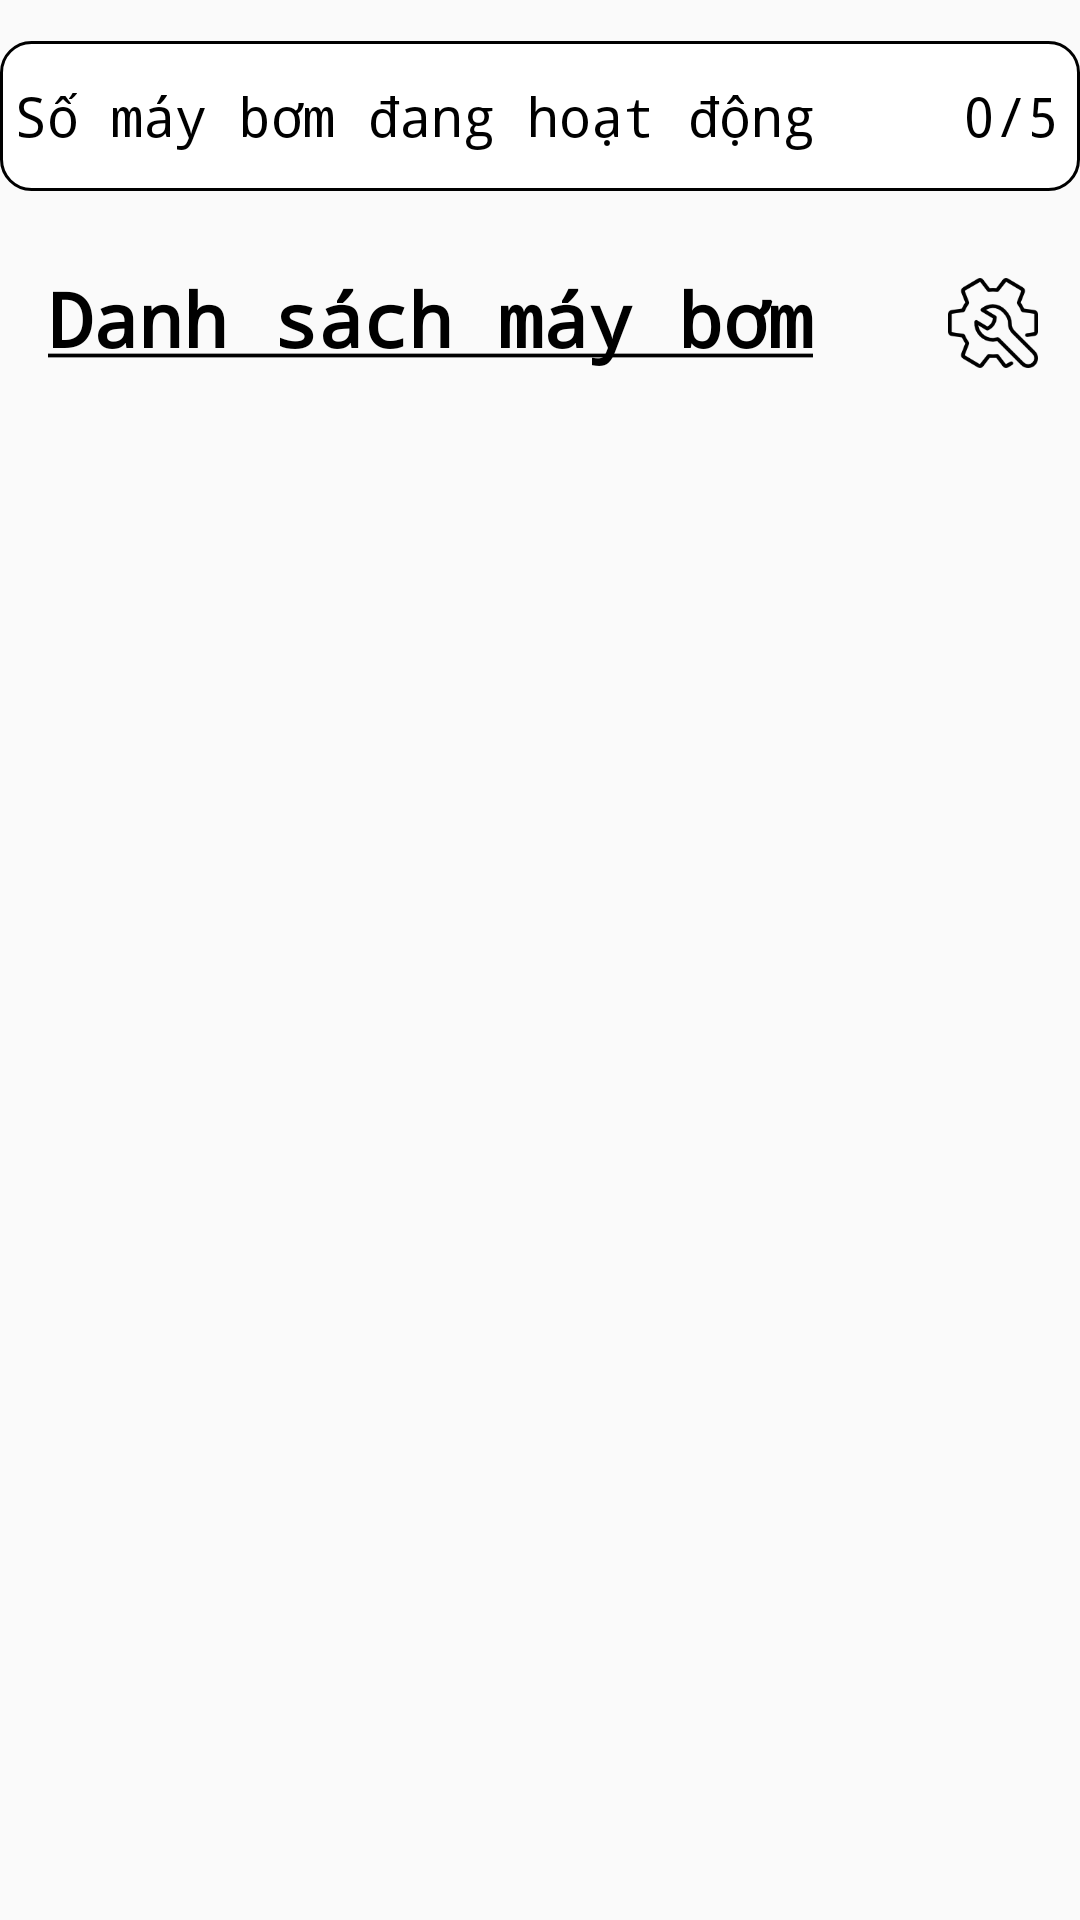

Icon bounding boxes for this 1080x1920 phone screenshot, format (x1, y1, x2, y2):
setting: (948, 278, 1038, 368)
